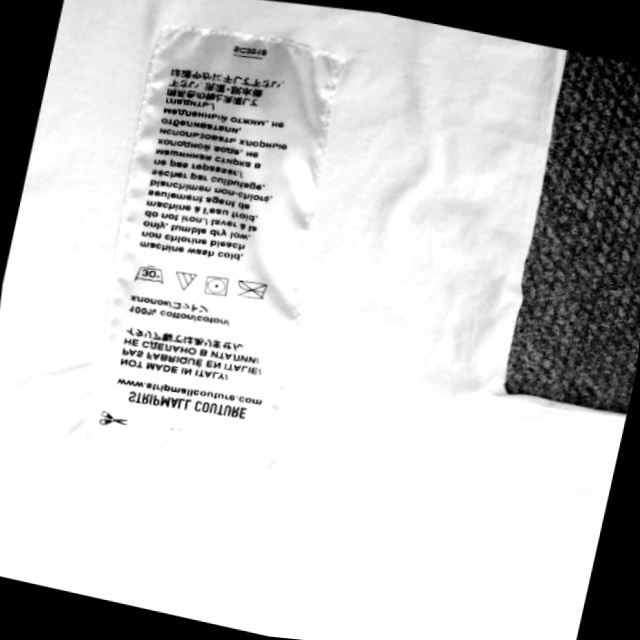30C: (130, 260, 169, 287)
DN_iron: (234, 275, 274, 308)
non_chlorine_bleach: (170, 267, 200, 293)
tumble_dry_low: (197, 271, 233, 299)
